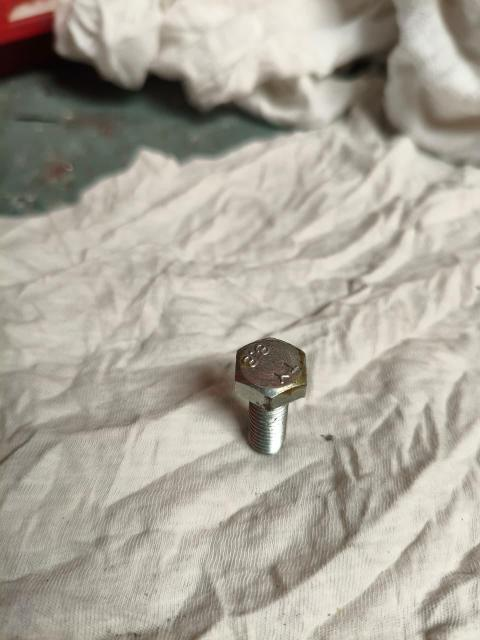Metal: (230, 338, 310, 463)
